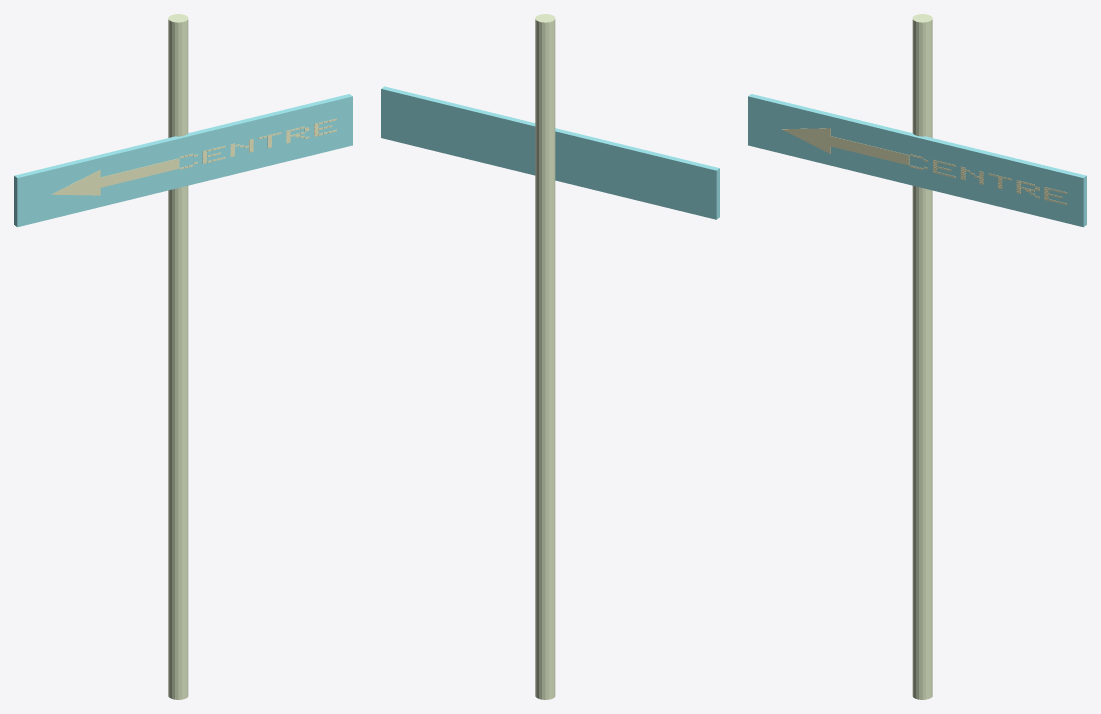
Rendered from sign_centre_left_text.glb.
The picture shows the model from 3 angles, left to right: view 1: azimuth 30°, elevation 25°; view 2: azimuth 150°, elevation 25°; view 3: azimuth 330°, elevation 25°; orthographic projection.
Visible parts, largest first — view 1: plate_base_00, pole, layer_1_00, layer_1_01; view 2: plate_base_00, pole; view 3: plate_base_00, pole, layer_1_00, layer_1_01.
Part boxes in pixels (left/top/right/bottom): plate_base_00: left=14, top=94, right=352, bottom=227; pole: left=168, top=14, right=188, bottom=699; layer_1_00: left=100, top=158, right=178, bottom=187; layer_1_01: left=51, top=170, right=100, bottom=195; plate_base_00: left=381, top=86, right=719, bottom=219; pole: left=535, top=14, right=555, bottom=699; plate_base_00: left=748, top=94, right=1086, bottom=227; pole: left=912, top=14, right=932, bottom=699; layer_1_00: left=830, top=136, right=908, bottom=165; layer_1_01: left=781, top=128, right=830, bottom=153.
Size of the model in its own units: 1.14 by 2.2 by 0.071.
